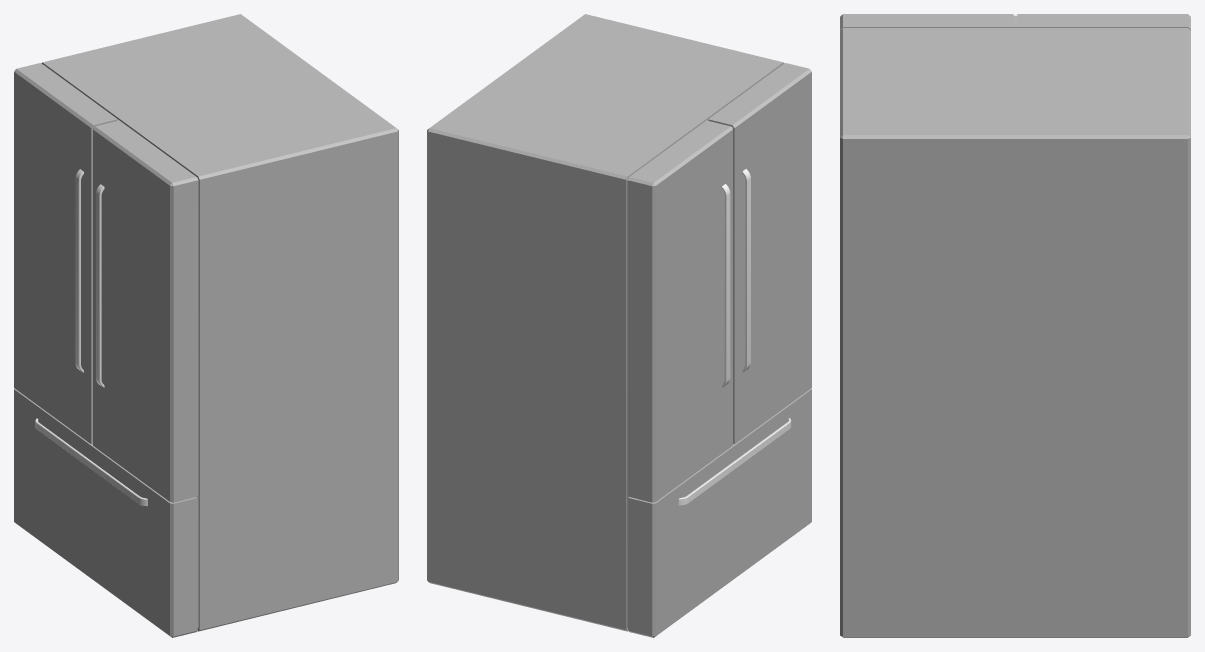
The model's file is Unity2Skfb.gltf.
3 views of the same model, side by side, from view 1: azimuth 30°, elevation 25°; view 2: azimuth 150°, elevation 25°; view 3: azimuth 270°, elevation 25° (orthographic). The views are drawn at different scales.
Visible parts, largest first — view 1: Refrigerator1, Line005; view 2: Refrigerator1, Line005; view 3: Refrigerator1.
Boxes of the visible parts, bbox=[...] form: Refrigerator1: bbox=[14, 14, 398, 637]; Line005: bbox=[35, 169, 147, 506]; Refrigerator1: bbox=[427, 14, 811, 637]; Line005: bbox=[678, 169, 791, 505]; Refrigerator1: bbox=[840, 14, 1190, 637].
Size of the model in its own units: 1.02 by 1.9 by 1.2.
Materials: 2 (2 with a texture image).
